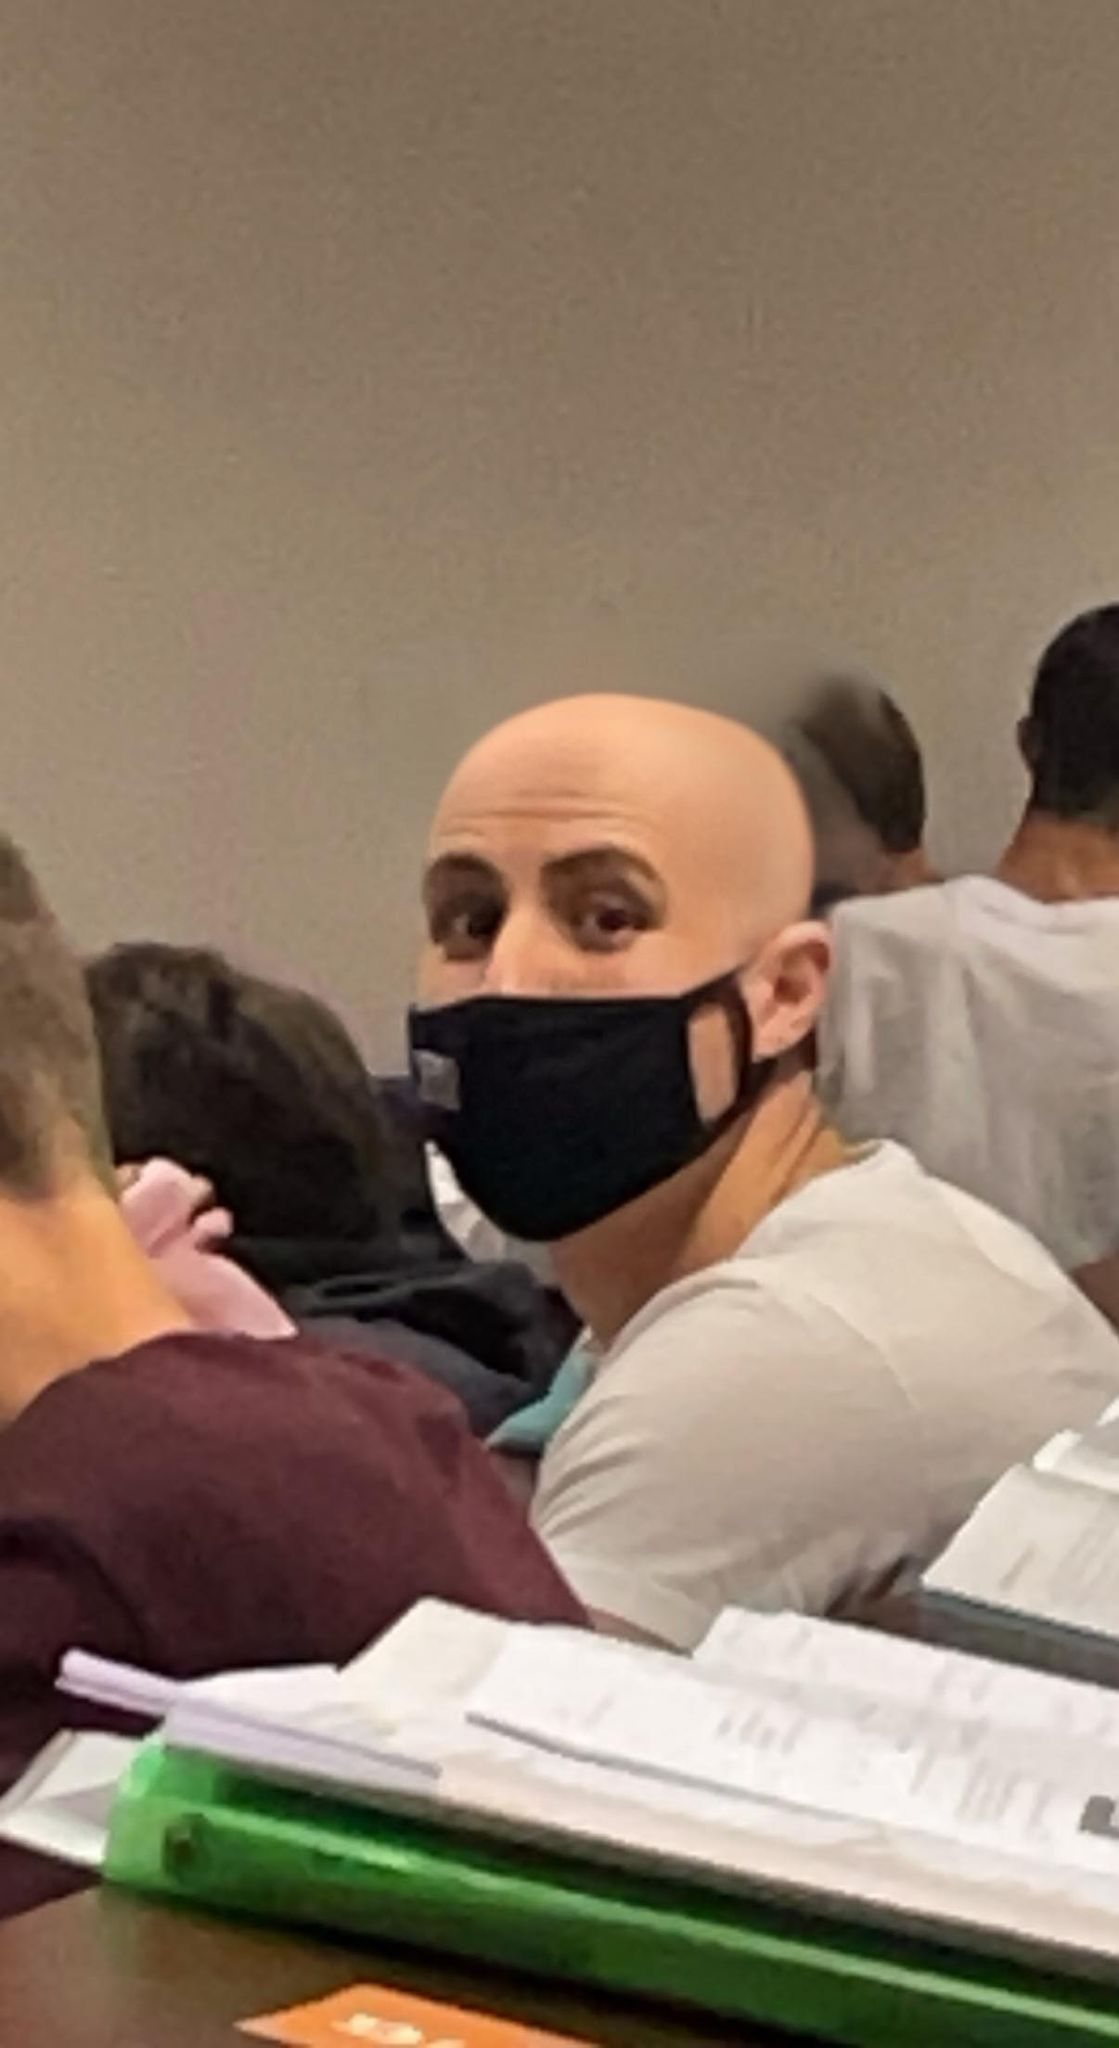with_mask: (415, 764, 765, 1233)
